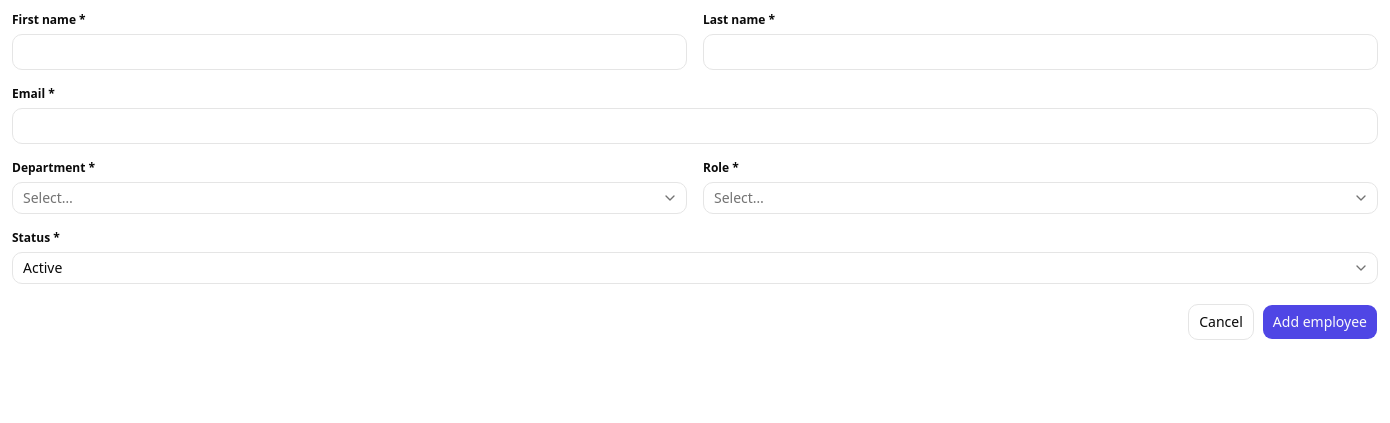
EmployeeForm › shows required errors on an empty submit
Click the button "Add employee" at (1320, 322), box [1262,304,1378,340]
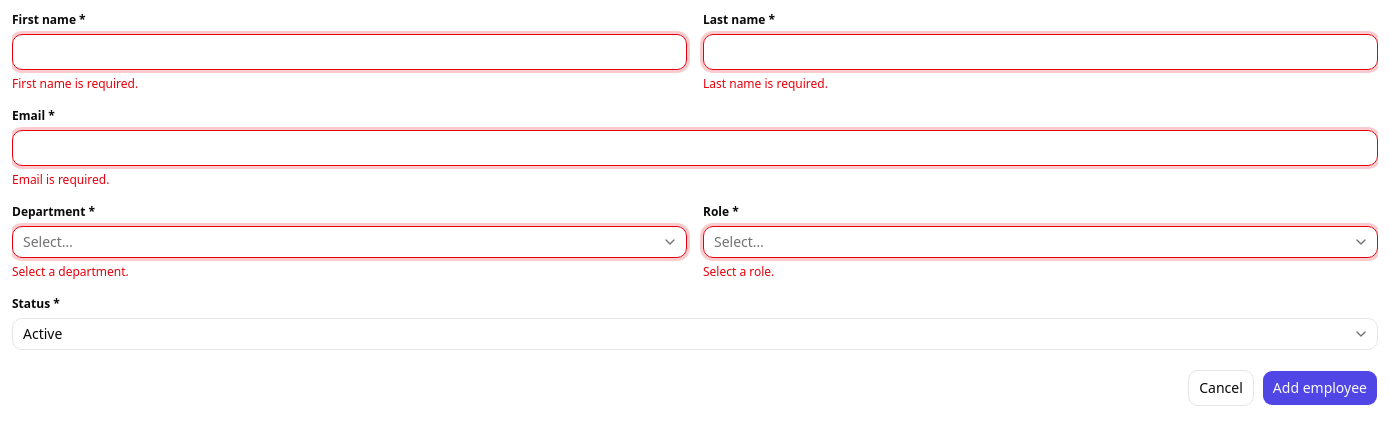
Expected: the text "First name is required." is shown, [12,75,138,92]
Expected: the text "Last name is required." is shown, [703,75,828,92]
Expected: the text "Email is required." is shown, [12,171,109,188]
